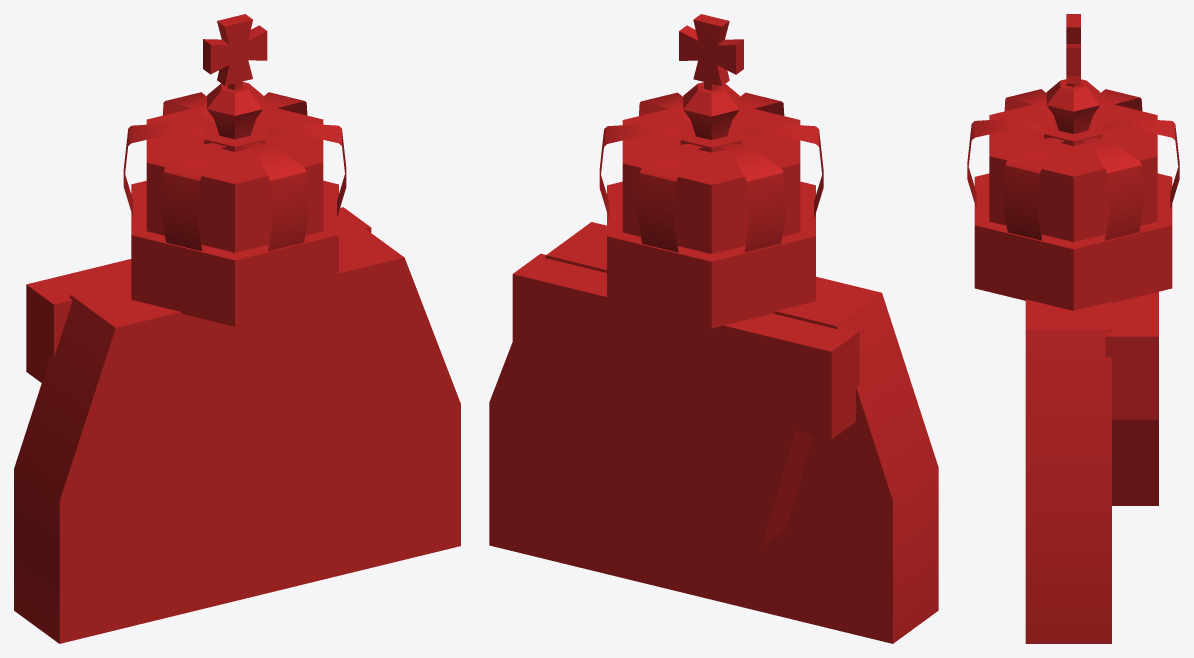
File: roof_top_statue_D.fbx
3 renders of one model, left to right at view 1: azimuth 30°, elevation 25°; view 2: azimuth 150°, elevation 25°; view 3: azimuth 270°, elevation 25°, orthographic. The views are drawn at different scales.
Parts seen in each view (by area): view 1: roof_top_statue_D; view 2: roof_top_statue_D; view 3: roof_top_statue_D.
Boxes of the visible parts, x1=… form: roof_top_statue_D: x1=14, y1=14, x2=460, y2=643; roof_top_statue_D: x1=489, y1=14, x2=938, y2=643; roof_top_statue_D: x1=967, y1=14, x2=1179, y2=643.
Size of the model in its own units: 61.41 by 81.34 by 29.52.
